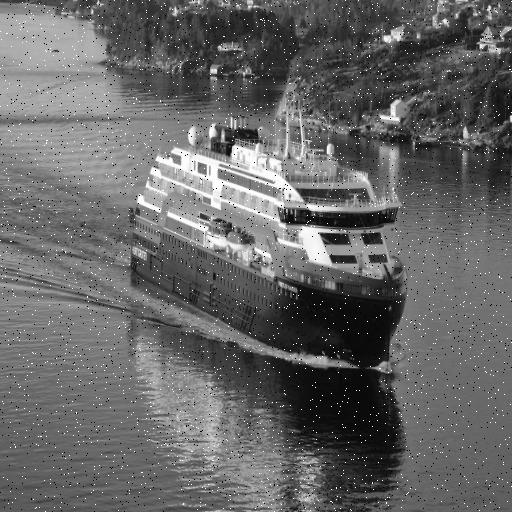cruises: (126, 96, 413, 382)
